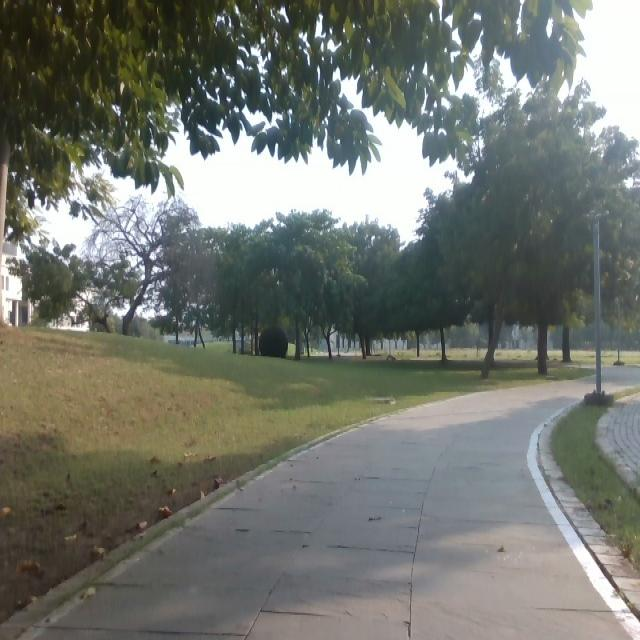lane: (44, 368, 639, 637)
